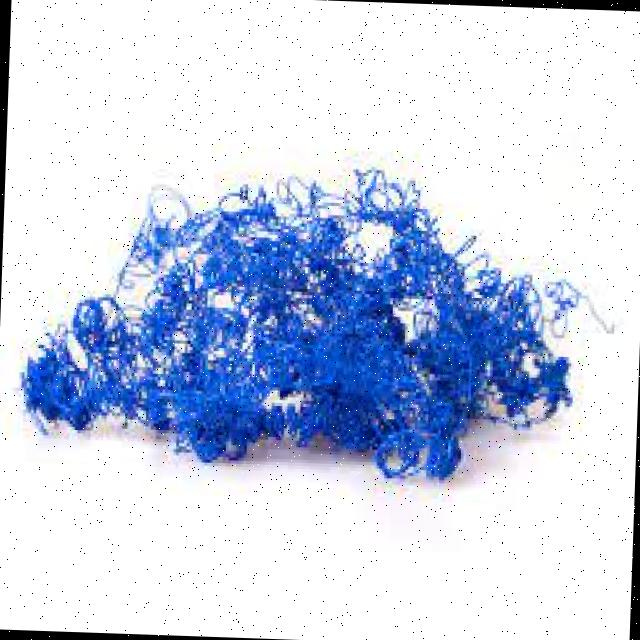spaghetti: (20, 119, 572, 523)
